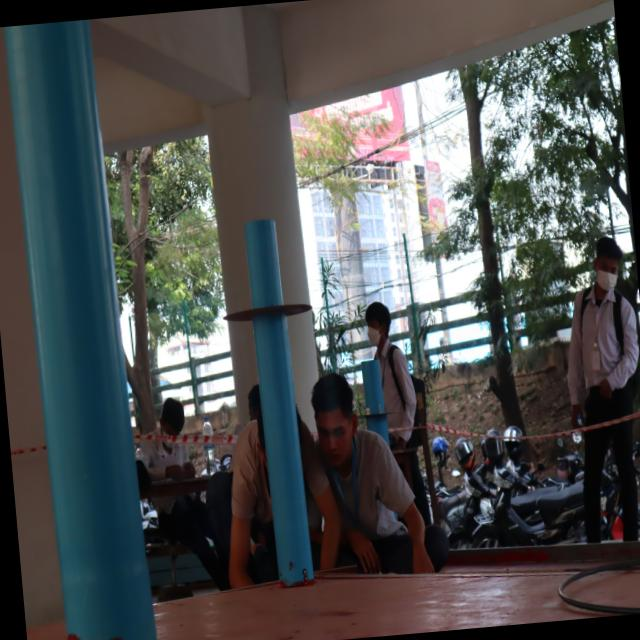pole: (208, 212, 326, 420), (346, 353, 396, 446)
